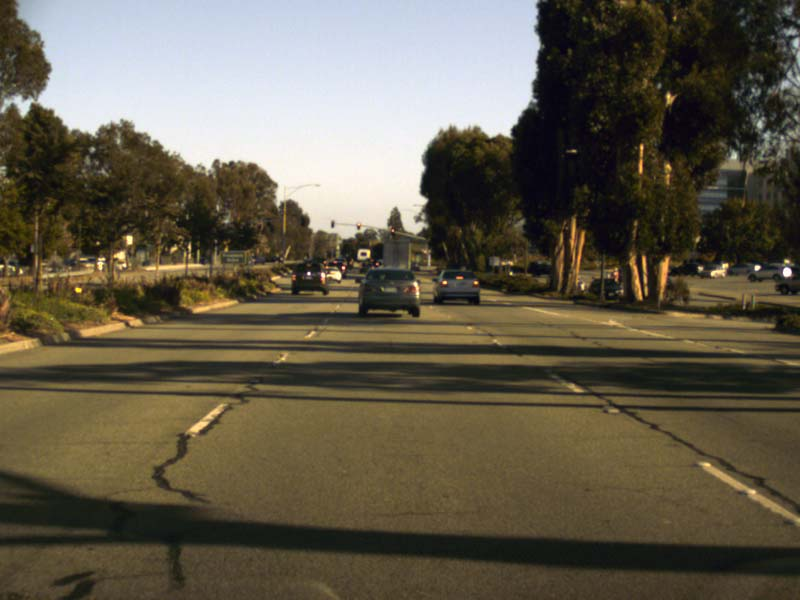Red: (390, 228, 394, 236), (356, 222, 360, 230)
